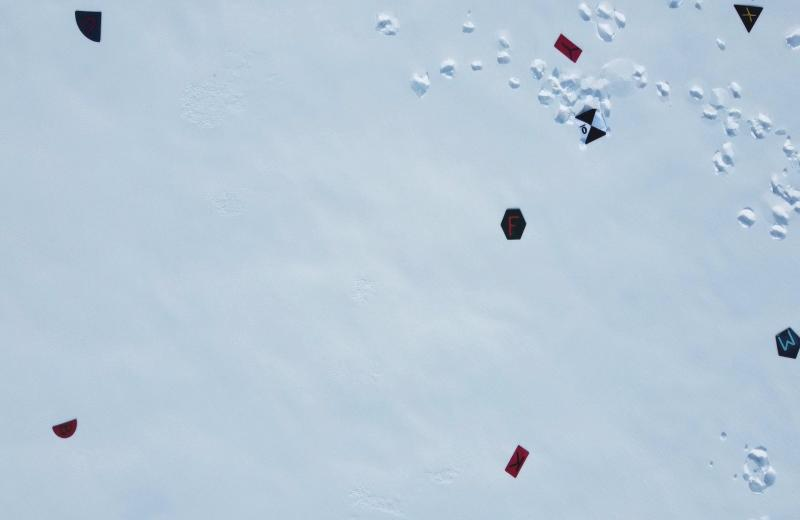Hexagon: (496, 204, 529, 247)
Pentagon: (770, 324, 800, 359)
Quarter Circle: (72, 6, 110, 49)
Rectangle: (499, 439, 531, 484), (552, 30, 586, 67)
Semi Circle: (48, 414, 82, 445)
Triangle: (730, 0, 766, 36)
